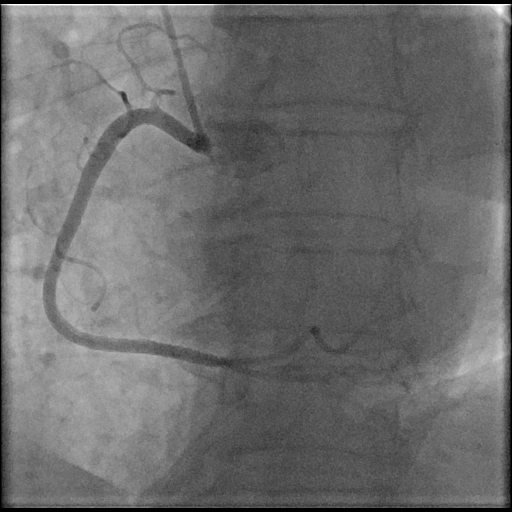RCA: (43, 108, 319, 381)
catherter: (161, 4, 206, 140)
